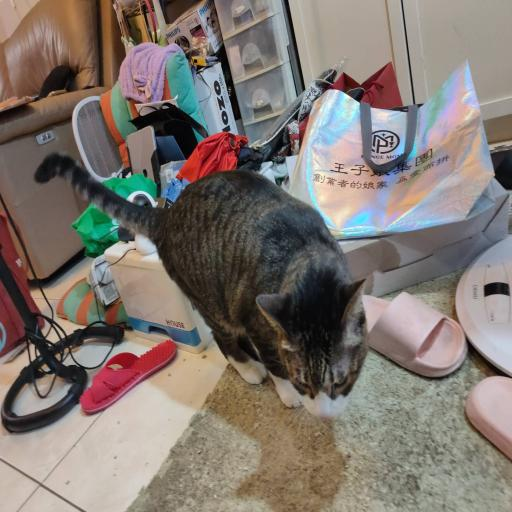cat: (151, 165, 370, 421)
